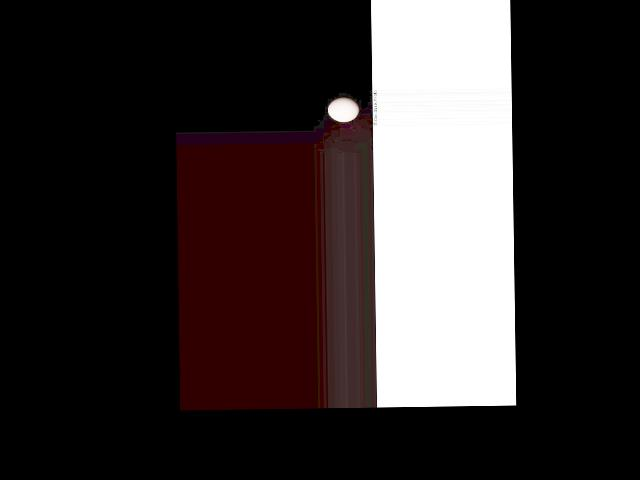egg: (327, 97, 360, 121)
